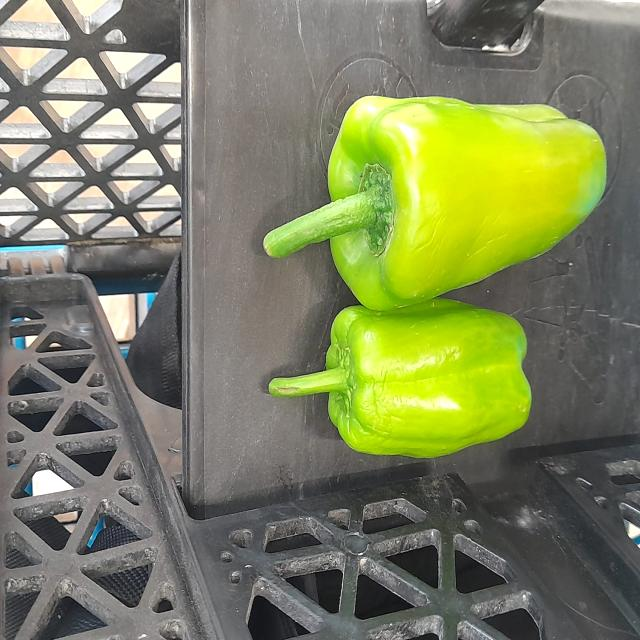bell pepper: (264, 70, 613, 308), (268, 301, 545, 461)
